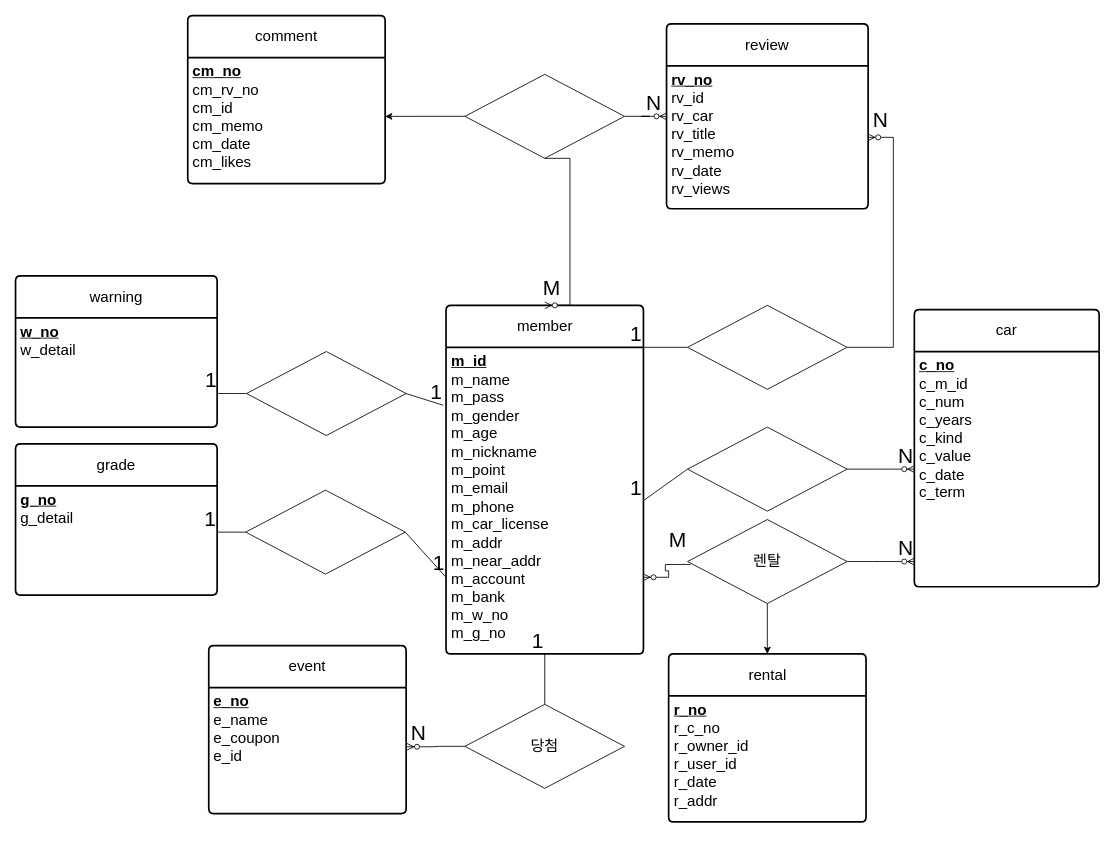
Image size: 1114x843. Some labels were removed from this diagram. Each missing label, with the centre of its shape:
"경고부여" belongs at pixel 326 393.
"글 작성" belongs at pixel 767 346.
"댓글 작성" belongs at pixel 544 116.
"등급부여" belongs at pixel 325 531.
"등록" belongs at pixel 767 468.
